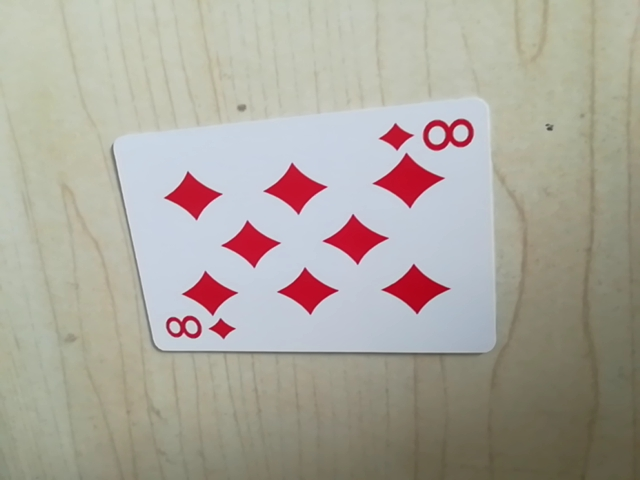fk 8: (379, 109, 477, 160), (159, 311, 239, 349)
